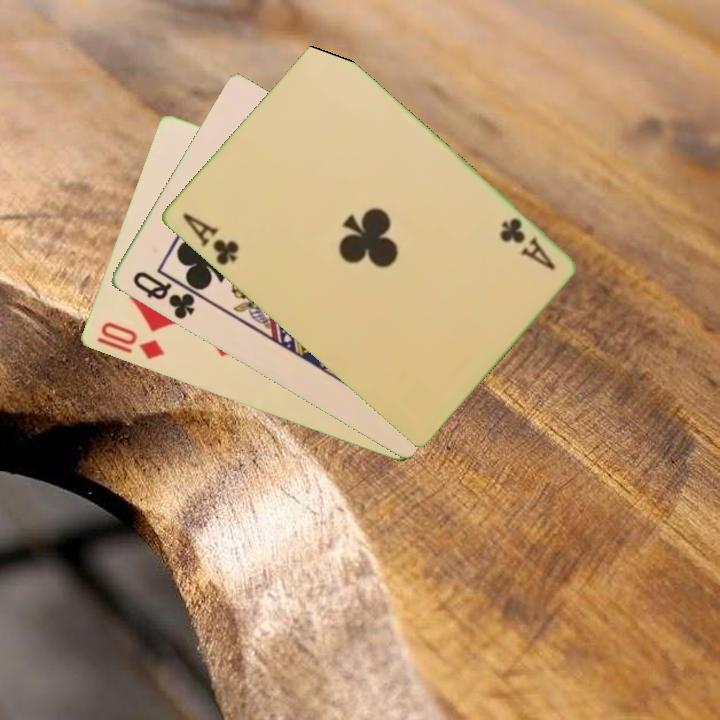10d: (93, 318, 168, 363)
Ac: (178, 209, 242, 269), (495, 214, 558, 274)
Qc: (128, 267, 205, 323)
